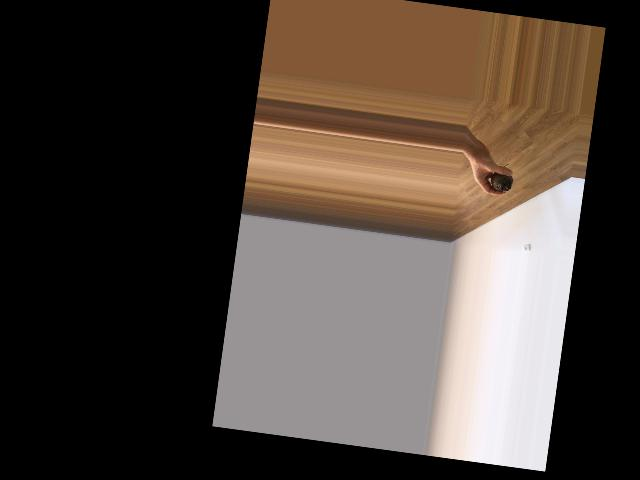beet: (489, 162, 515, 193)
